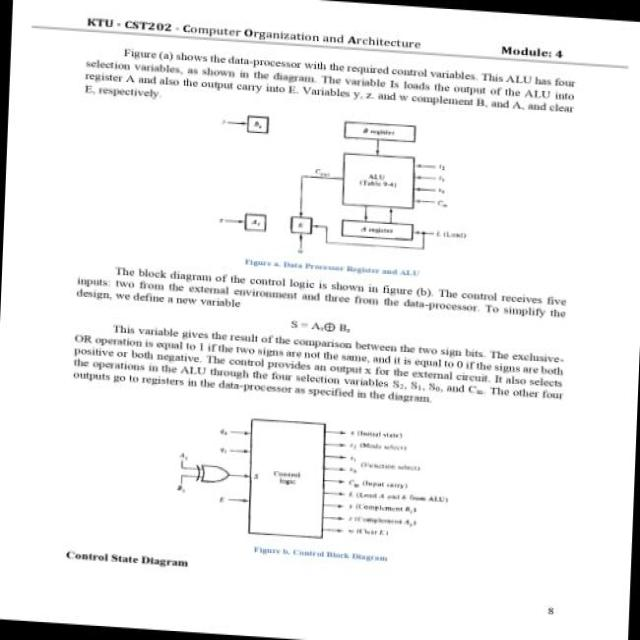Figure Detection - v3 Dataset Version2: (203, 102, 478, 272), (162, 401, 460, 554)
